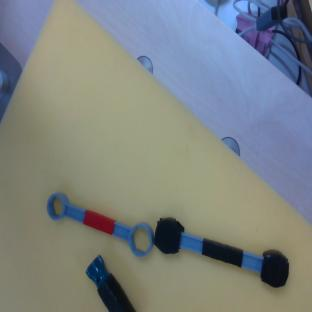part_2_bad: (82, 253, 136, 312)
part_3_bad: (149, 214, 294, 291)
part_3_good: (40, 189, 158, 259)
